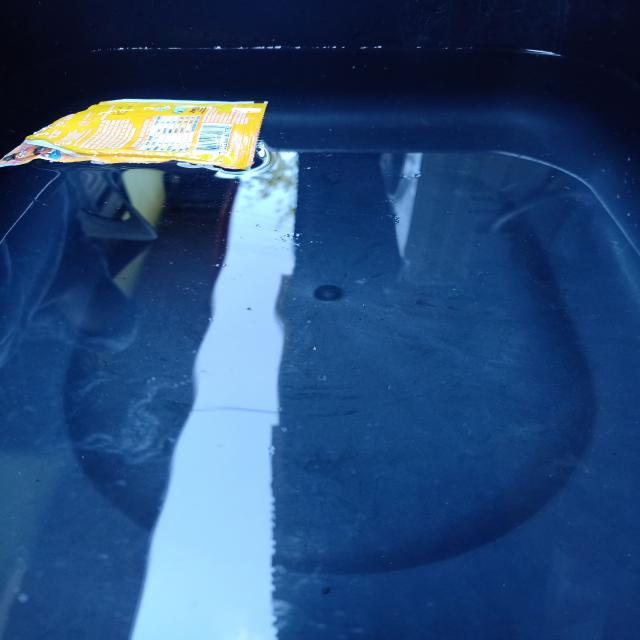Plastic Wrapper: (0, 82, 302, 201)
